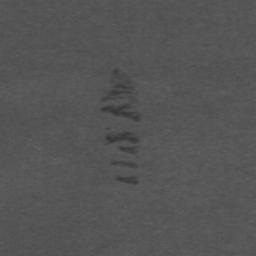Secondary rust skin: (105, 131, 140, 154), (100, 104, 142, 122), (101, 83, 135, 102), (111, 160, 139, 170), (115, 175, 140, 185)
